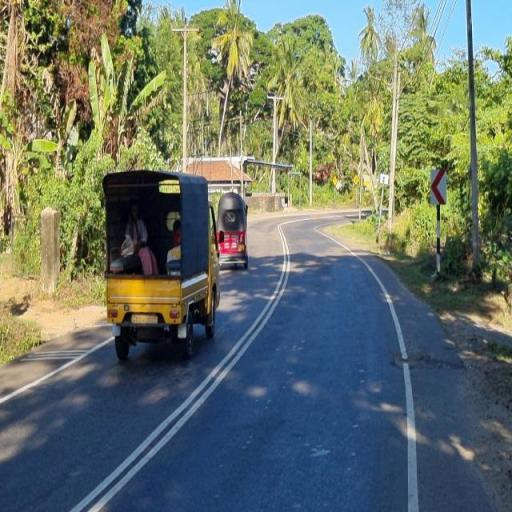double_white_line: (67, 221, 296, 512)
